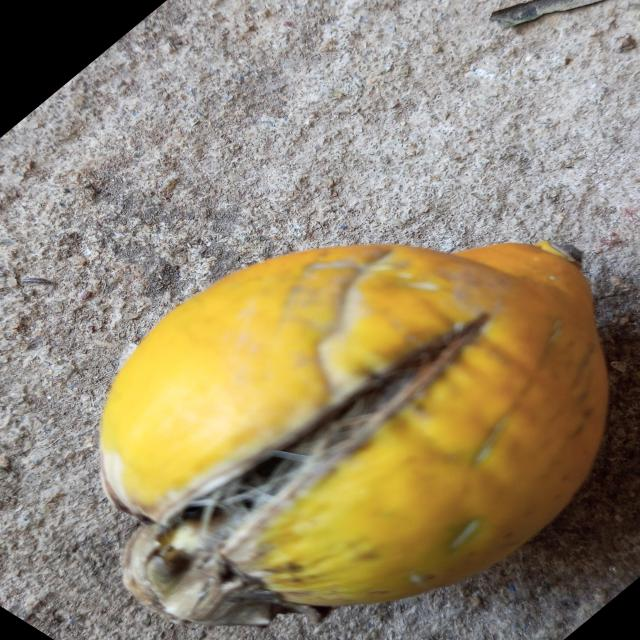damaged: (101, 242, 607, 625)
